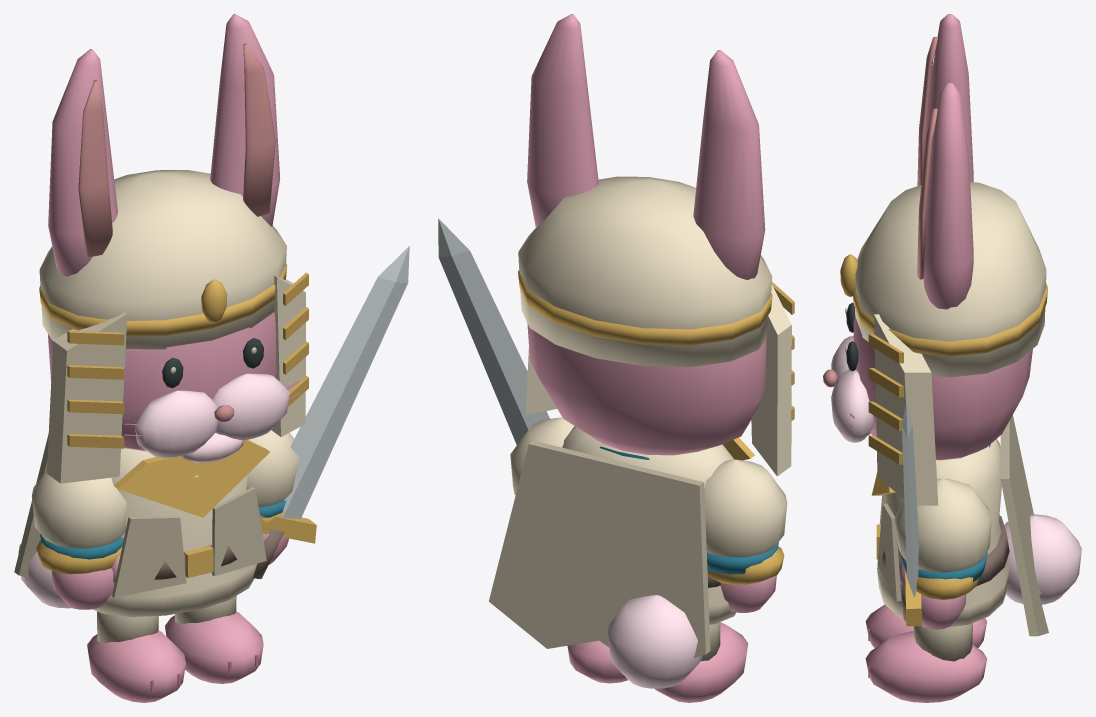
File: giant.glb
The picture shows the model from 3 angles, left to right: view 1: azimuth 30°, elevation 25°; view 2: azimuth 150°, elevation 25°; view 3: azimuth 270°, elevation 25°; orthographic projection. The views are drawn at different scales.
Parts seen in each view (by area): view 1: Striped nemes crown, Shaped bevel sword, Nemes shoulder wing, Animal cheek head, Rabbit long soft ear, Short folded tunic, Rabbit long soft ear.001, Puff sleeve, Broad gold collar, Soft animal paw, Soft animal paw.001, Coat fold (+23 smaller); view 2: Short scalloped cape, Striped nemes crown, Animal cheek head, Rabbit long soft ear, Rabbit long soft ear.001, Shaped bevel sword, Puff sleeve, Rabbit cotton tail, Nemes shoulder wing, Nemes front band, Short folded tunic, Soft animal paw (+6 smaller); view 3: Striped nemes crown, Rabbit long soft ear.001, Animal cheek head, Nemes shoulder wing.001, Puff sleeve.001, Soft animal paw.001, Short folded tunic, Short scalloped cape, Rabbit cotton tail, Rabbit long soft ear, Nemes front band, Rabbit round cheek.001 (+17 smaller).
Boxes of the visible parts, x1=… form: Striped nemes crown: x1=39, y1=170, x2=286, y2=349; Shaped bevel sword: x1=281, y1=246, x2=409, y2=519; Nemes shoulder wing: x1=46, y1=312, x2=127, y2=483; Animal cheek head: x1=48, y1=312, x2=276, y2=451; Rabbit long soft ear: x1=48, y1=49, x2=117, y2=276; Short folded tunic: x1=92, y1=439, x2=256, y2=616; Rabbit long soft ear.001: x1=210, y1=14, x2=280, y2=226; Puff sleeve: x1=32, y1=469, x2=126, y2=548; Broad gold collar: x1=113, y1=440, x2=269, y2=517; Soft animal paw: x1=87, y1=630, x2=185, y2=702; Soft animal paw.001: x1=165, y1=611, x2=263, y2=683; Coat fold: x1=112, y1=516, x2=186, y2=597; Short scalloped cape: x1=489, y1=440, x2=710, y2=658; Striped nemes crown: x1=518, y1=176, x2=772, y2=367; Animal cheek head: x1=527, y1=323, x2=766, y2=455; Rabbit long soft ear: x1=693, y1=50, x2=765, y2=279; Rabbit long soft ear.001: x1=527, y1=14, x2=598, y2=227; Shaped bevel sword: x1=438, y1=218, x2=549, y2=444; Puff sleeve: x1=704, y1=459, x2=787, y2=557; Rabbit cotton tail: x1=607, y1=595, x2=702, y2=688; Nemes shoulder wing: x1=751, y1=285, x2=791, y2=476; Nemes front band: x1=518, y1=270, x2=772, y2=345; Short folded tunic: x1=562, y1=426, x2=736, y2=624; Soft animal paw: x1=655, y1=622, x2=748, y2=702; Striped nemes crown: x1=855, y1=182, x2=1046, y2=377; Rabbit long soft ear.001: x1=923, y1=82, x2=973, y2=309; Animal cheek head: x1=853, y1=316, x2=1032, y2=460; Nemes shoulder wing.001: x1=874, y1=314, x2=938, y2=505; Puff sleeve.001: x1=894, y1=478, x2=991, y2=572; Soft animal paw.001: x1=865, y1=631, x2=987, y2=702; Short folded tunic: x1=877, y1=439, x2=1009, y2=627; Short scalloped cape: x1=1000, y1=415, x2=1048, y2=636; Rabbit cotton tail: x1=1004, y1=514, x2=1081, y2=604; Rabbit long soft ear: x1=927, y1=14, x2=973, y2=182; Nemes front band: x1=853, y1=282, x2=1047, y2=356; Rabbit round cheek.001: x1=831, y1=369, x2=874, y2=442.
Size of the model in its own units: 1.65 by 2.88 by 1.07.
